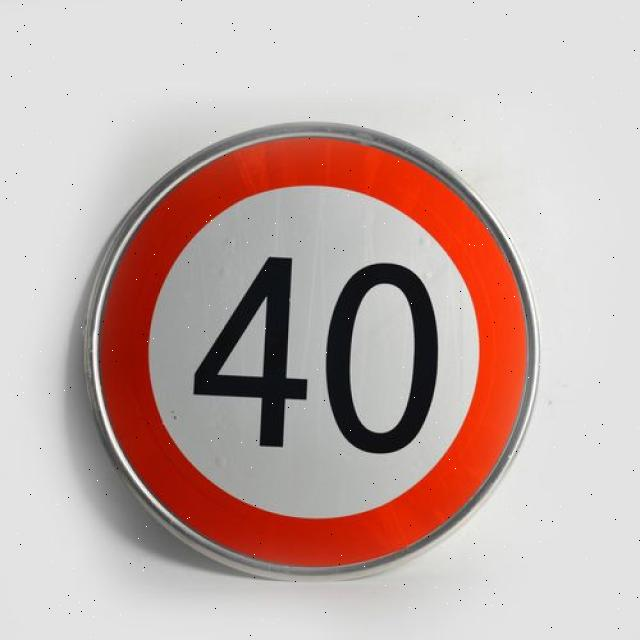speed limit 40: (84, 125, 540, 580)
